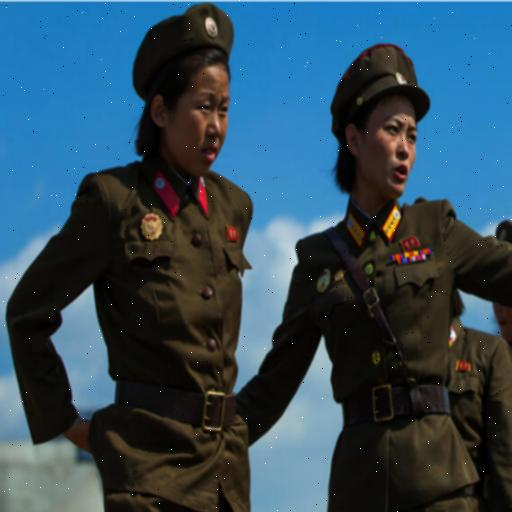north army: (0, 9, 300, 512)
